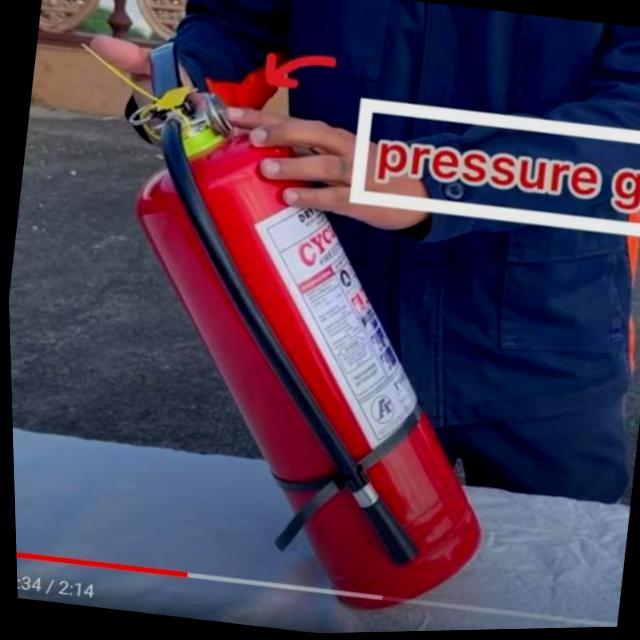FireExtinguisher: (55, 25, 549, 634)
